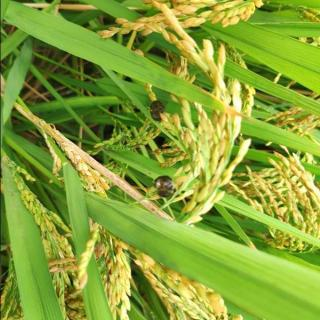Gosong-Palsu: (153, 174, 175, 200), (148, 99, 166, 121)
